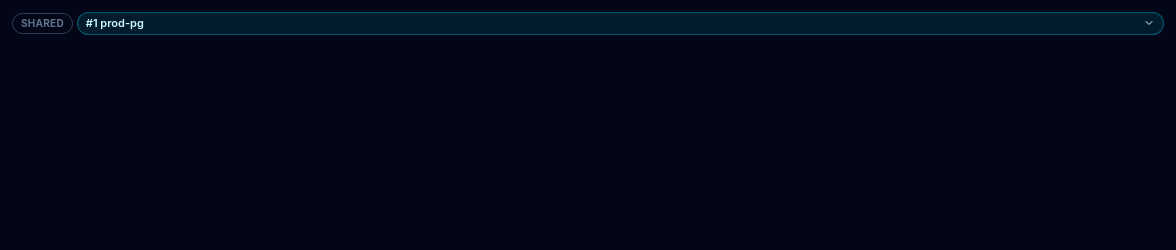
Test: destination picker (chips variant) › says so when nothing matches, instead of showing an empty box
The image size is (1176, 250).
Click the button with test id "sql-destinations-trigger" at (115, 23), box [77,12,1164,34]
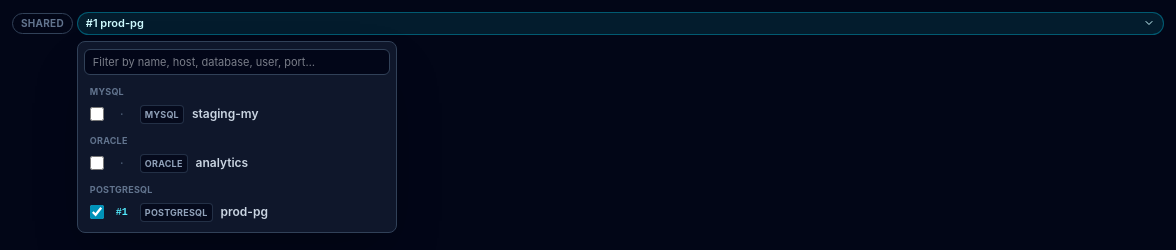
Type "zzz-nothing" into the field with test id "sql-destinations-filter" at (237, 62), box [84,48,390,75]
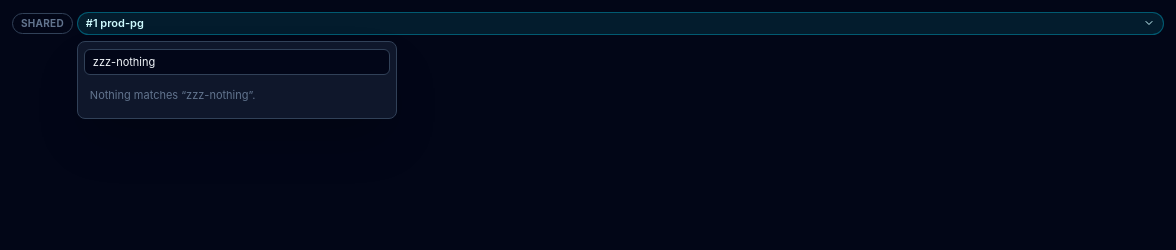
Result: the text "Nothing matches “zzz-nothing”." is shown at [90,88,256,102]
